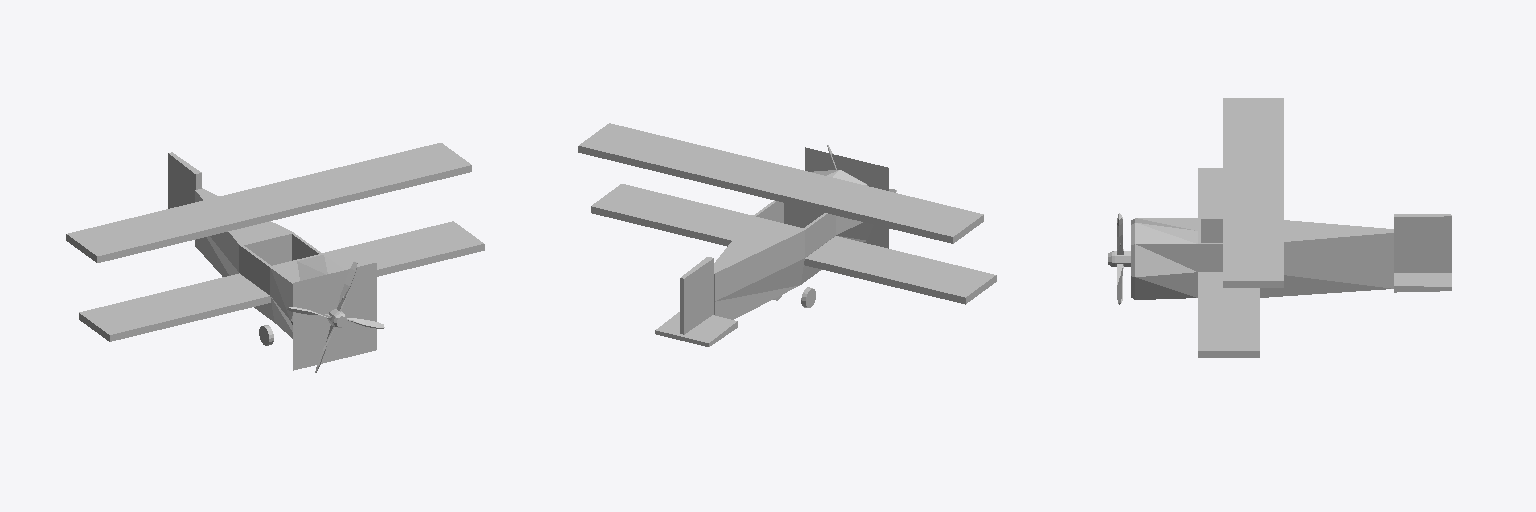
File: TestPlane.obj
3 renders of one model, left to right at view 1: azimuth 30°, elevation 25°; view 2: azimuth 150°, elevation 25°; view 3: azimuth 270°, elevation 25°, orthographic.
Visible parts, largest first — view 1: Fuselage_Cube, RightWingUp_Cube.011, LeftWingUp_Cube.003, FastProp_Plane, RightWingDown_Cube.012, LeftWingDown_Cube.009, Rudder_Cube.001, SlowProp_Cylinder, RightDownControl_Cube.013, RightUpControl_Cube.010, LeftUpControl_Cube.007, LeftDownControl_Cube.008; view 2: Fuselage_Cube, RightWingUp_Cube.011, LeftWingUp_Cube.003, RightWingDown_Cube.012, LeftWingDown_Cube.009, Rudder_Cube.001, FastProp_Plane, Elevator_Cube.006, RightDownControl_Cube.013, RightUpControl_Cube.010, LeftUpControl_Cube.007, LeftDownControl_Cube.008; view 3: Fuselage_Cube, LeftWingUp_Cube.003, RightWingUp_Cube.011, LeftWingDown_Cube.009, Rudder_Cube.001, RightWingDown_Cube.012, Elevator_Cube.006, SlowProp_Cylinder, LeftUpControl_Cube.007, LeftDownControl_Cube.008, RightUpControl_Cube.010.
Part boxes in pixels (x1,y1,x2,y2): Fuselage_Cube: (195,188,343,338); RightWingUp_Cube.011: (77,188,284,262); LeftWingUp_Cube.003: (254,151,471,217); FastProp_Plane: (293,263,376,370); RightWingDown_Cube.012: (90,273,270,341); LeftWingDown_Cube.009: (322,229,484,276); Rudder_Cube.001: (168,152,201,208); SlowProp_Cylinder: (287,261,384,372); RightDownControl_Cube.013: (79,300,142,326); RightUpControl_Cube.010: (66,221,129,247); LeftUpControl_Cube.007: (388,143,451,162); LeftDownControl_Cube.008: (404,221,463,240); Fuselage_Cube: (714,170,873,319); RightWingUp_Cube.011: (766,169,983,235); LeftWingUp_Cube.003: (590,123,795,197); RightWingDown_Cube.012: (804,236,996,296); LeftWingDown_Cube.009: (603,184,752,246); Rudder_Cube.001: (680,257,713,334); FastProp_Plane: (805,147,888,248); Elevator_Cube.006: (655,312,737,346); RightDownControl_Cube.013: (912,277,975,304); RightUpControl_Cube.010: (900,216,963,243); LeftUpControl_Cube.007: (578,138,641,165); LeftDownControl_Cube.008: (591,198,650,224); Fuselage_Cube: (1131,218,1393,299); LeftWingUp_Cube.003: (1223,190,1283,287); RightWingUp_Cube.011: (1223,98,1283,189); LeftWingDown_Cube.009: (1198,272,1259,357); Rudder_Cube.001: (1394,214,1451,272); RightWingDown_Cube.012: (1198,168,1222,217); Elevator_Cube.006: (1394,273,1451,292); SlowProp_Cylinder: (1108,213,1130,304); LeftUpControl_Cube.007: (1263,255,1283,287); LeftDownControl_Cube.008: (1238,327,1259,357); RightUpControl_Cube.010: (1263,98,1283,123).
Size of the model in its own units: 13.99 by 4.72 by 11.09.